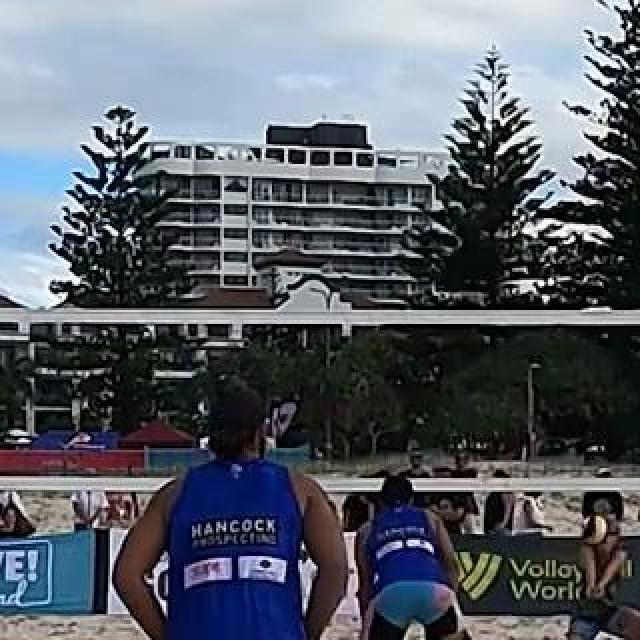volleyball: (584, 514, 610, 544)
